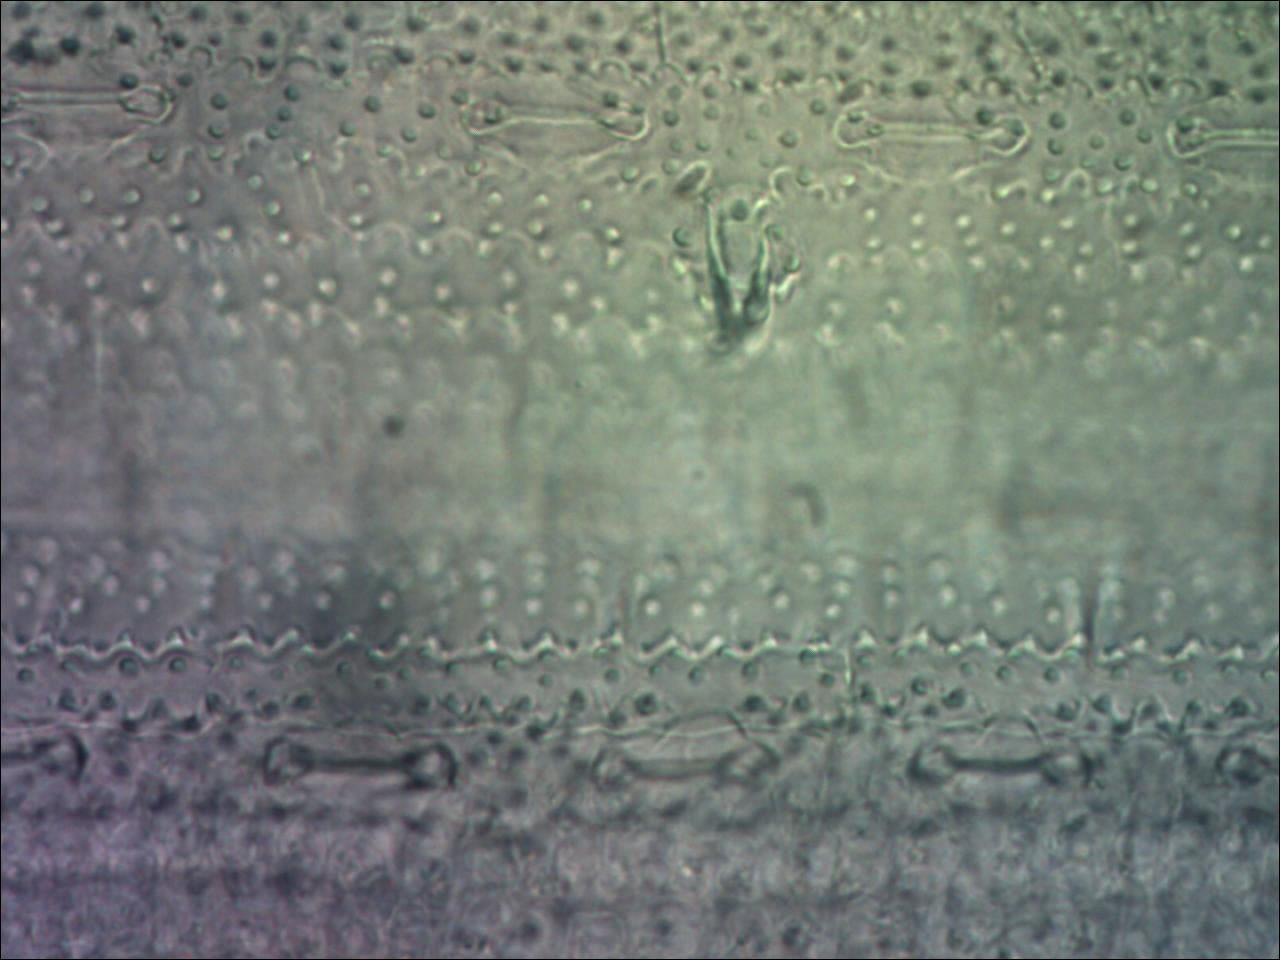stoma: (821, 68, 1029, 187), (457, 63, 652, 173), (256, 713, 467, 816), (910, 712, 1097, 821), (1, 45, 184, 155), (585, 719, 787, 810), (1153, 74, 1280, 195), (4, 701, 104, 792), (1214, 714, 1280, 800)
